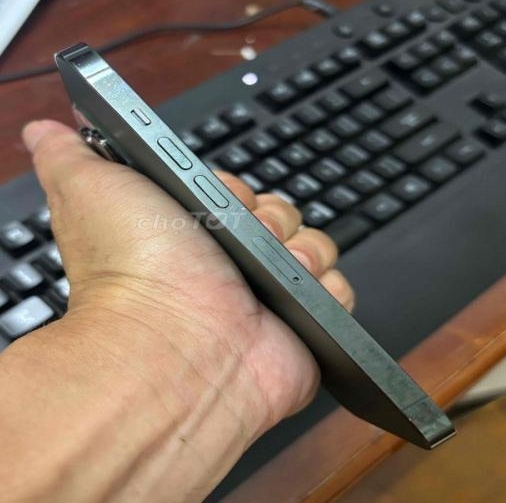scratch: (289, 267, 455, 445)
